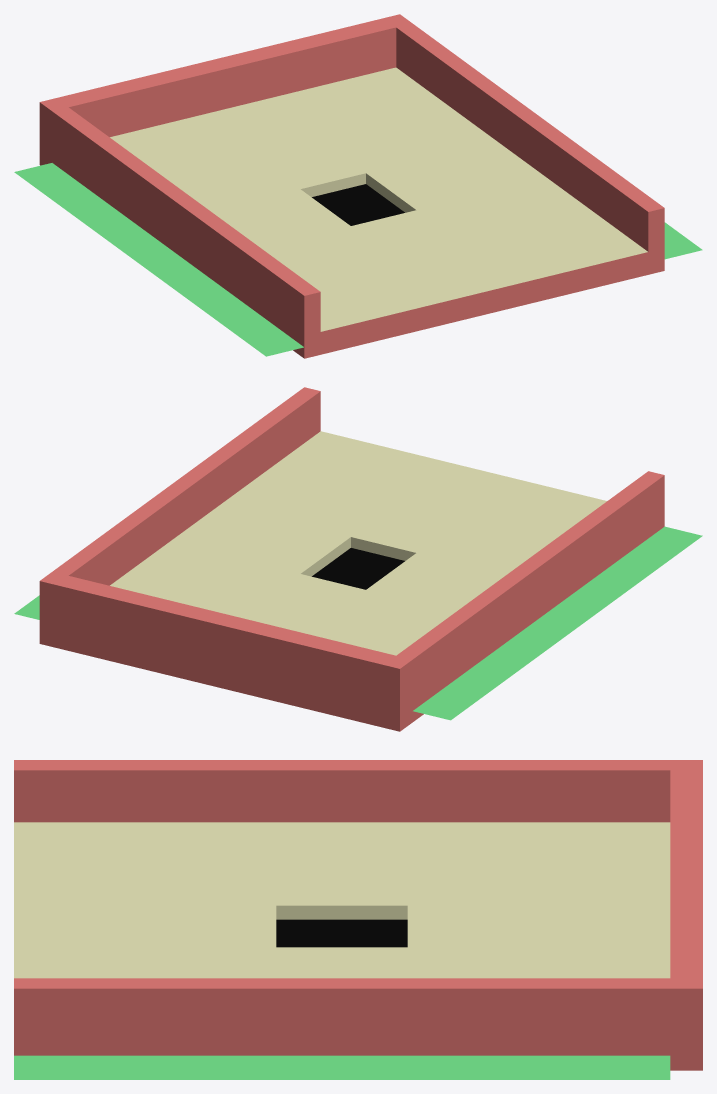
Rendered from hole_tile.fbx.
3 renders of one model, top to bottom at view 1: azimuth 30°, elevation 25°; view 2: azimuth 150°, elevation 25°; view 3: azimuth 270°, elevation 25°, orthographic. The views are drawn at different scales.
Parts seen in each view (by area): view 1: 1_cube, Plane; view 2: 1_cube, Plane; view 3: 1_cube, Plane.
Part boxes in pixels (bbox=[...]): 1_cube: bbox=[39, 14, 664, 358]; Plane: bbox=[14, 163, 702, 356]; 1_cube: bbox=[39, 387, 664, 731]; Plane: bbox=[14, 526, 702, 720]; 1_cube: bbox=[14, 760, 702, 1070]; Plane: bbox=[14, 1055, 670, 1079].
Bounding box in the file's own units: 200 × 27.5 × 210.
